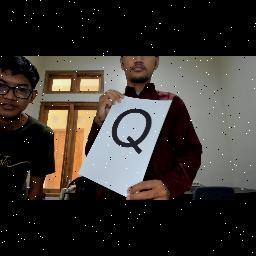q: (106, 106, 158, 160)
